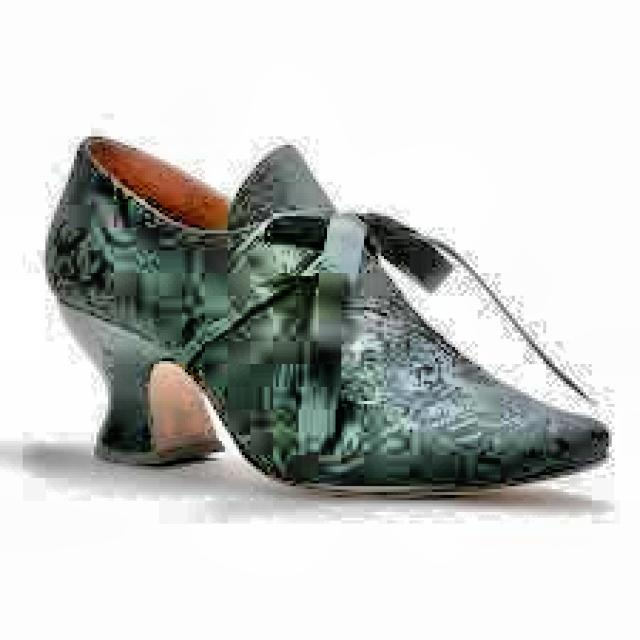shoes: (42, 139, 606, 499)
